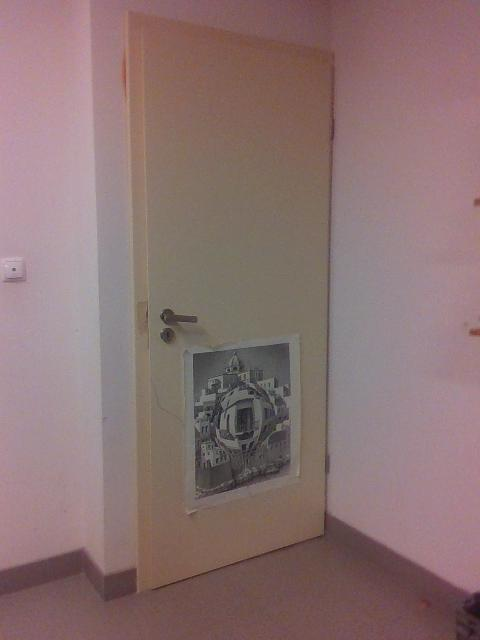door: (144, 29, 332, 590)
